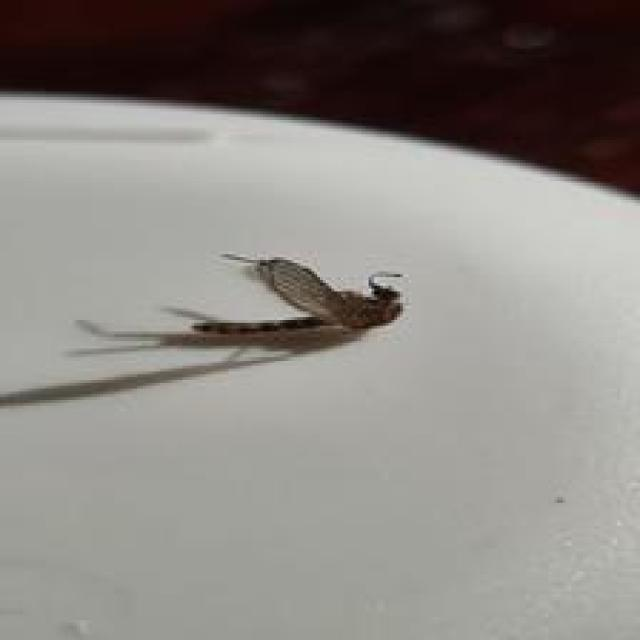Culex: (71, 250, 406, 356)
